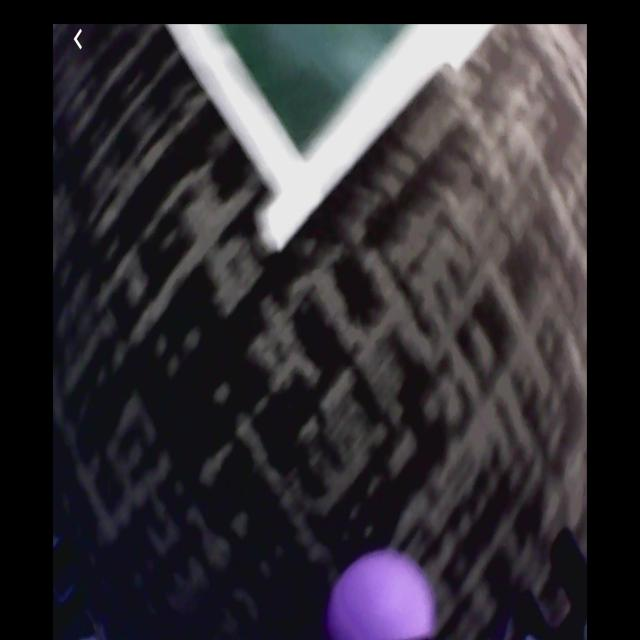ball: (325, 549, 447, 639)
